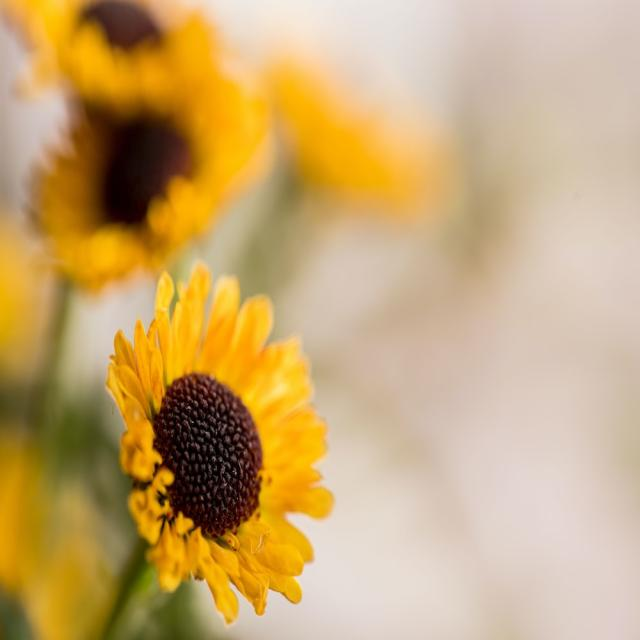sunflower: (99, 235, 339, 638), (12, 72, 282, 326), (247, 41, 458, 247), (0, 0, 256, 134)
